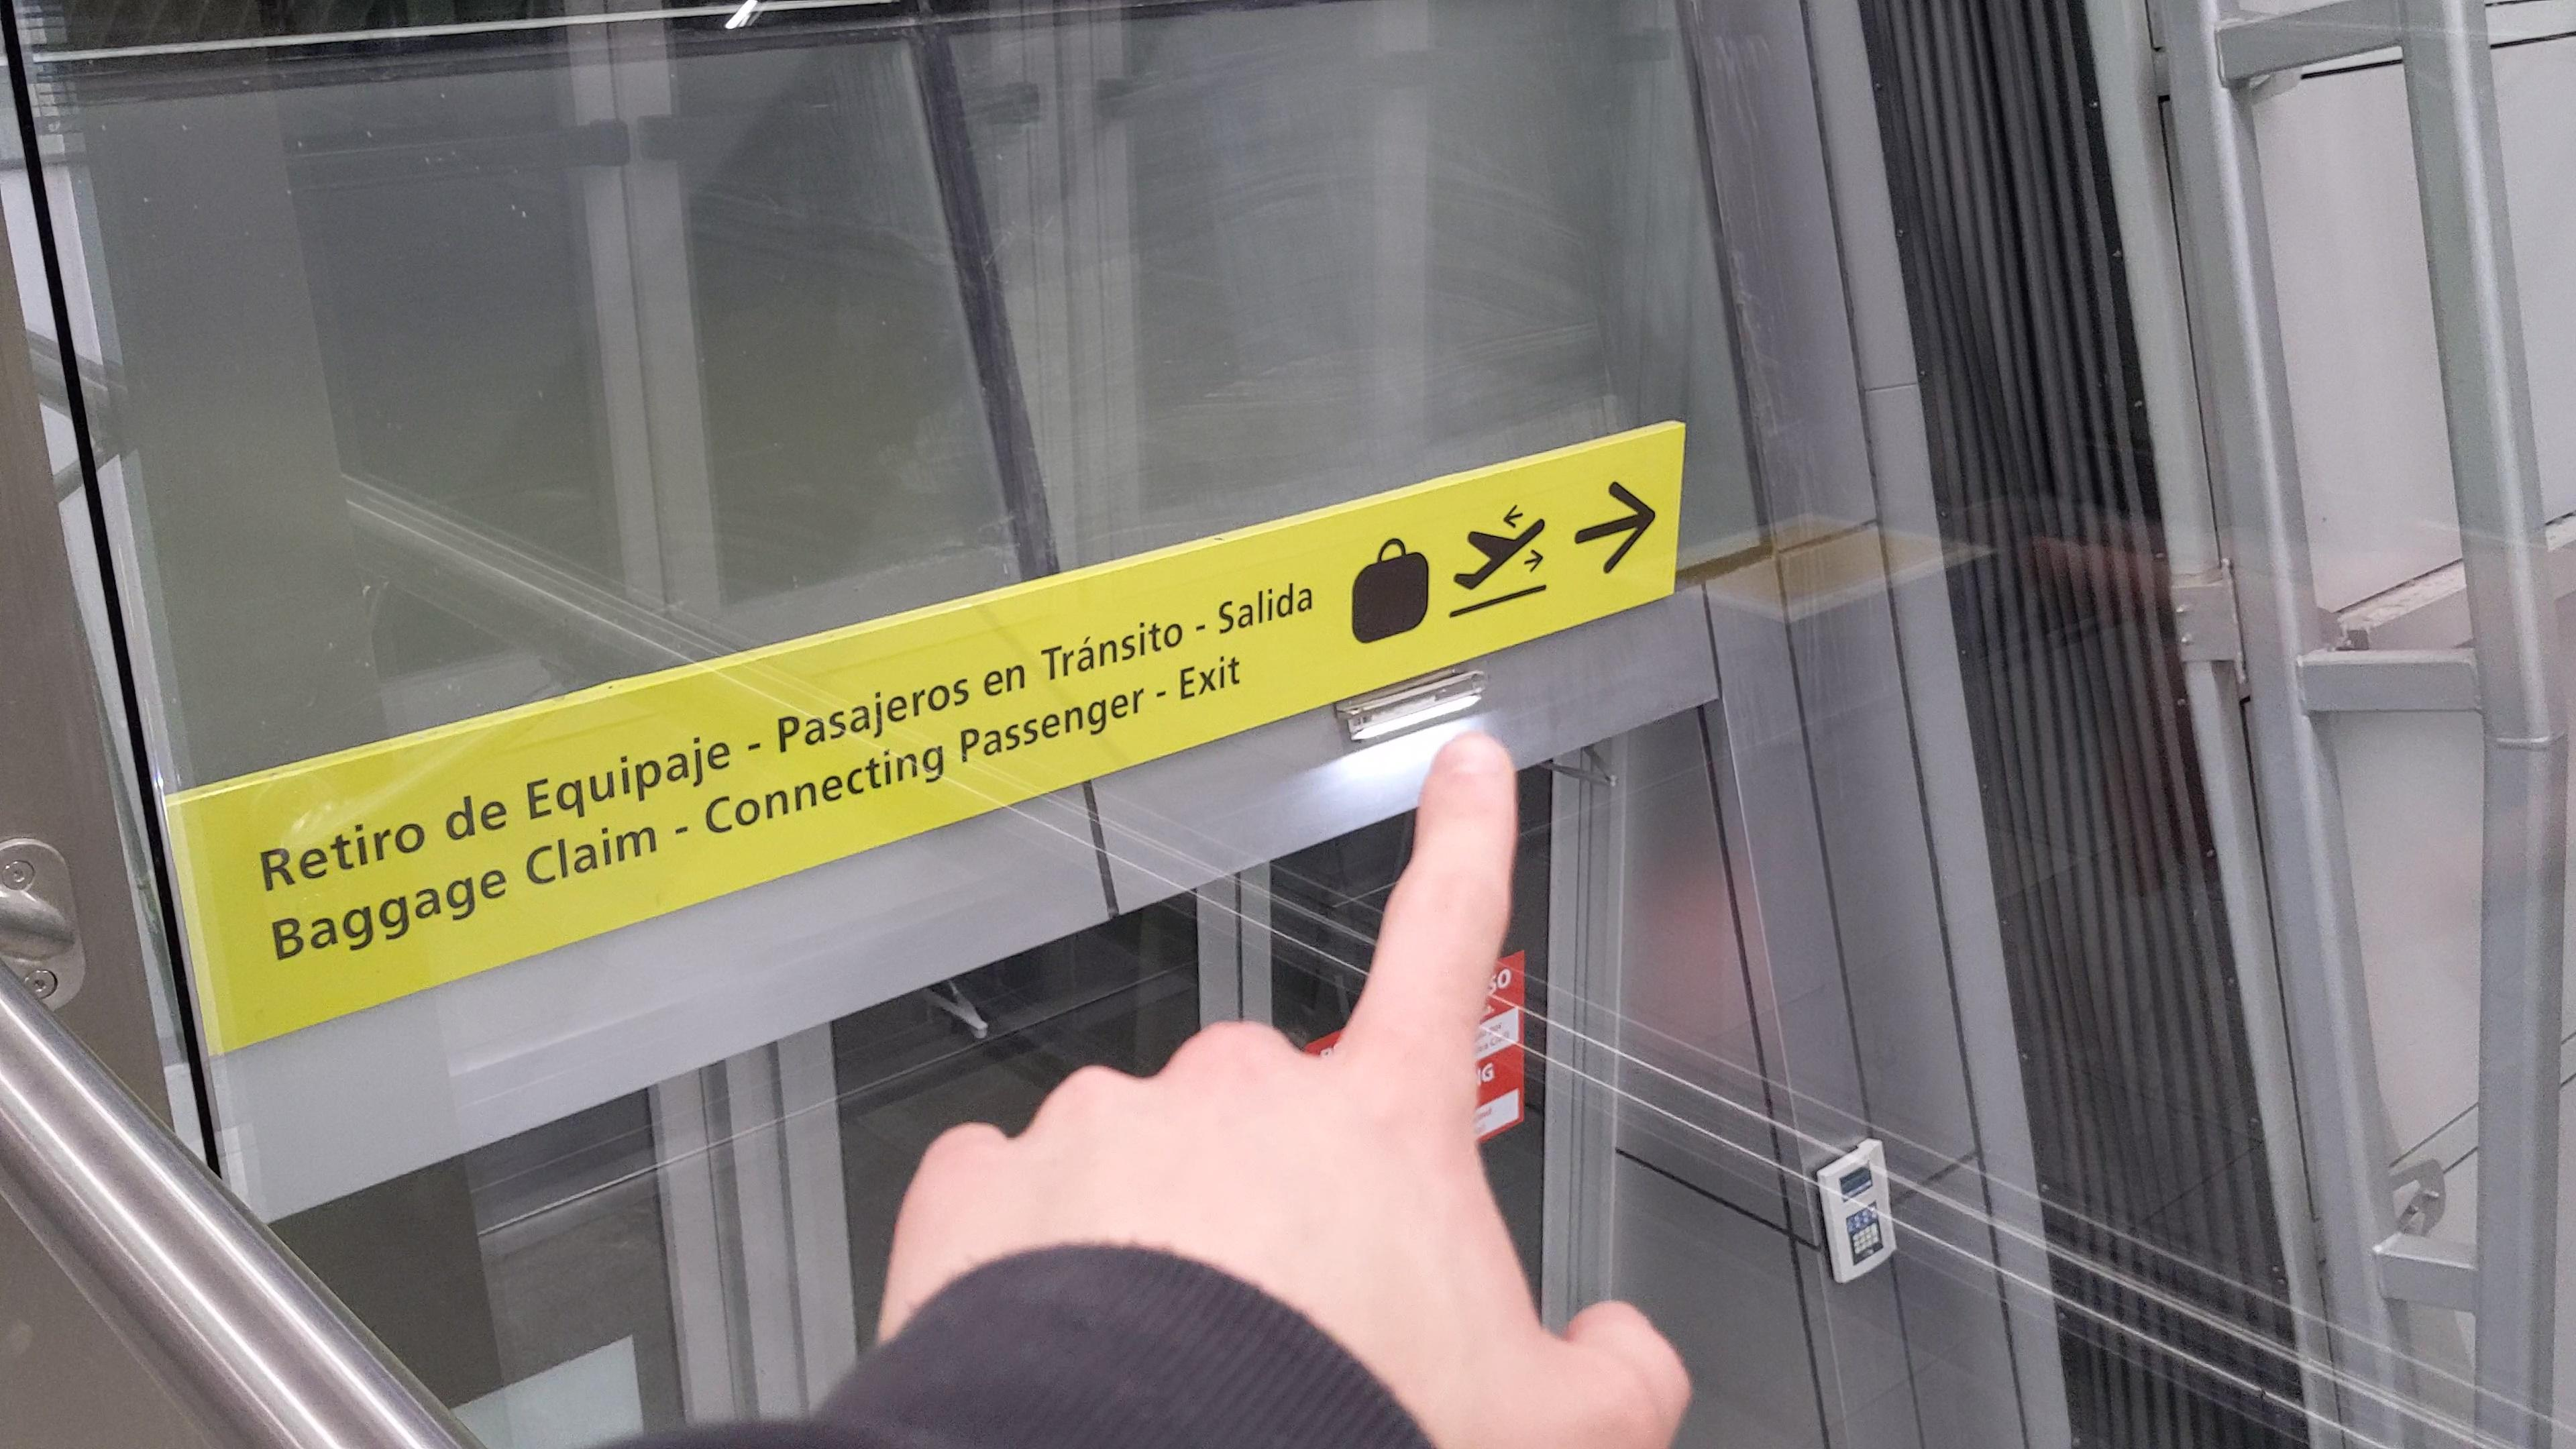airplane symbol: (1447, 499, 1557, 594)
baggage claim: (1345, 531, 1433, 653)
thin right arrow: (1566, 476, 1667, 580)
